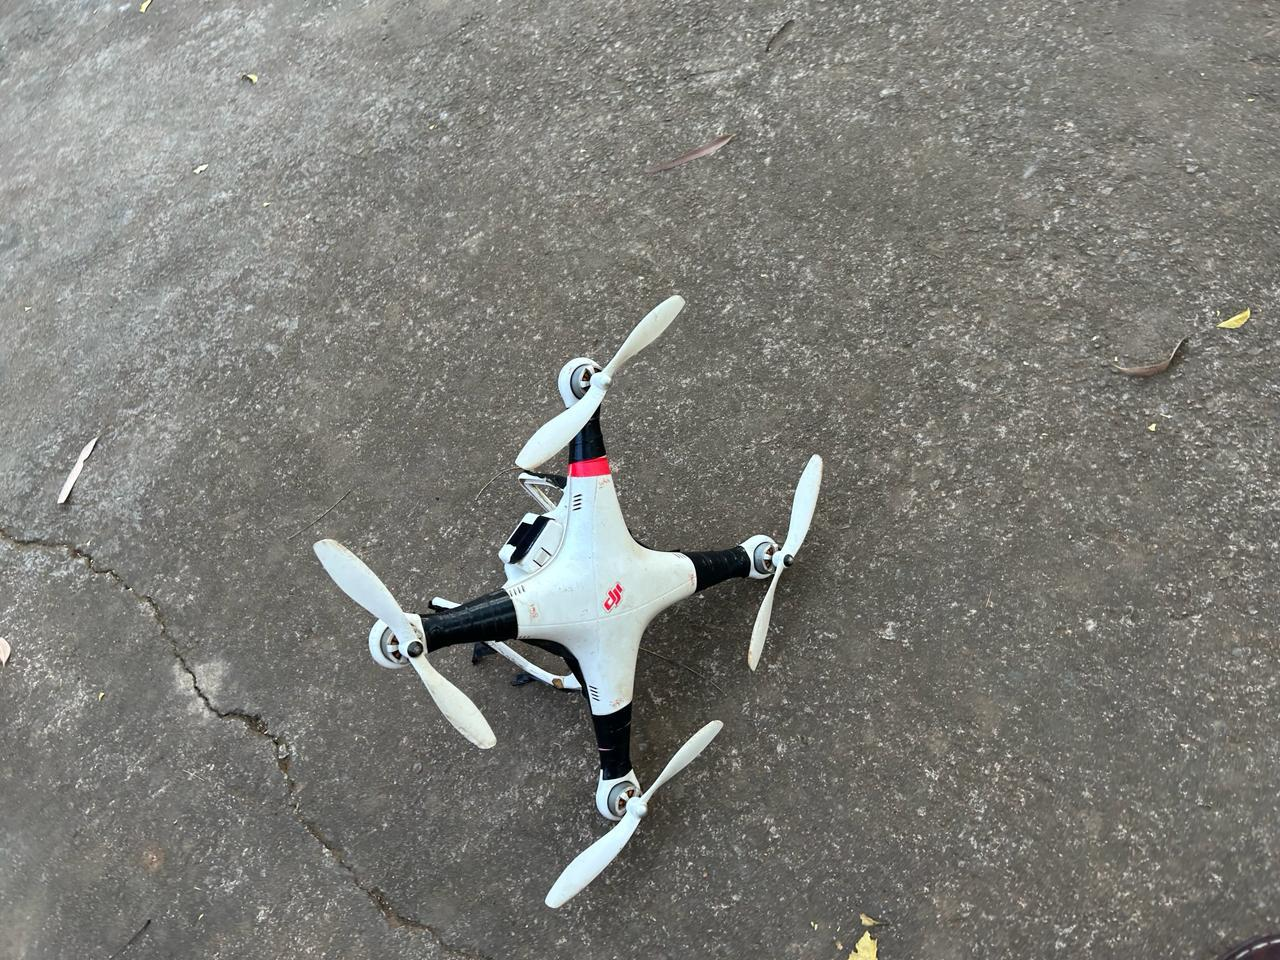drone: (221, 268, 980, 918)
